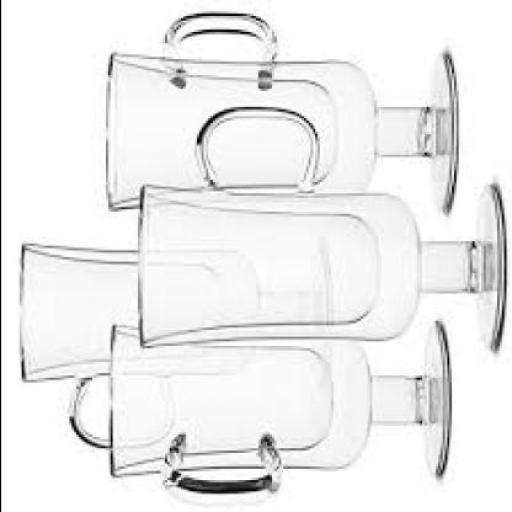glass: (132, 107, 501, 348), (100, 12, 450, 214), (14, 242, 328, 450), (104, 323, 450, 498)
